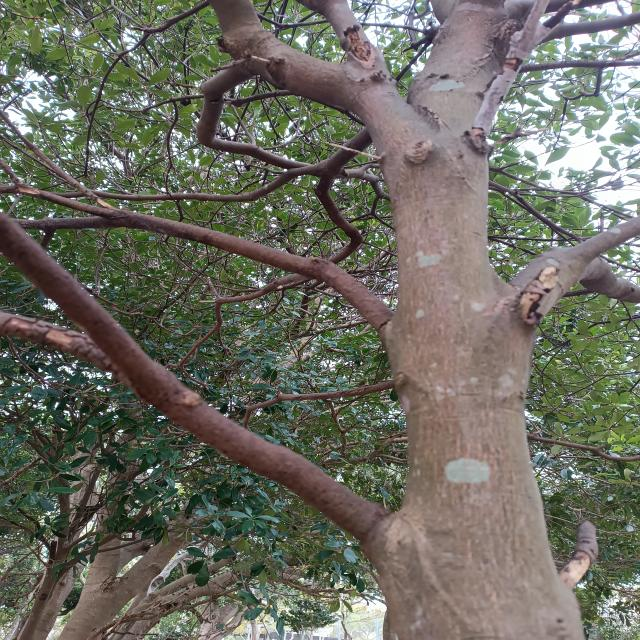Branch: (124, 364, 390, 546), (119, 212, 393, 332), (294, 0, 409, 166), (208, 0, 342, 110), (409, 0, 516, 133), (513, 246, 588, 327), (316, 126, 373, 177)
Twig: (195, 59, 312, 169), (92, 165, 323, 202), (0, 312, 120, 374), (317, 177, 366, 265), (0, 183, 122, 218), (578, 257, 640, 302), (578, 217, 640, 261), (116, 95, 203, 115), (17, 217, 119, 230), (225, 91, 290, 105)
